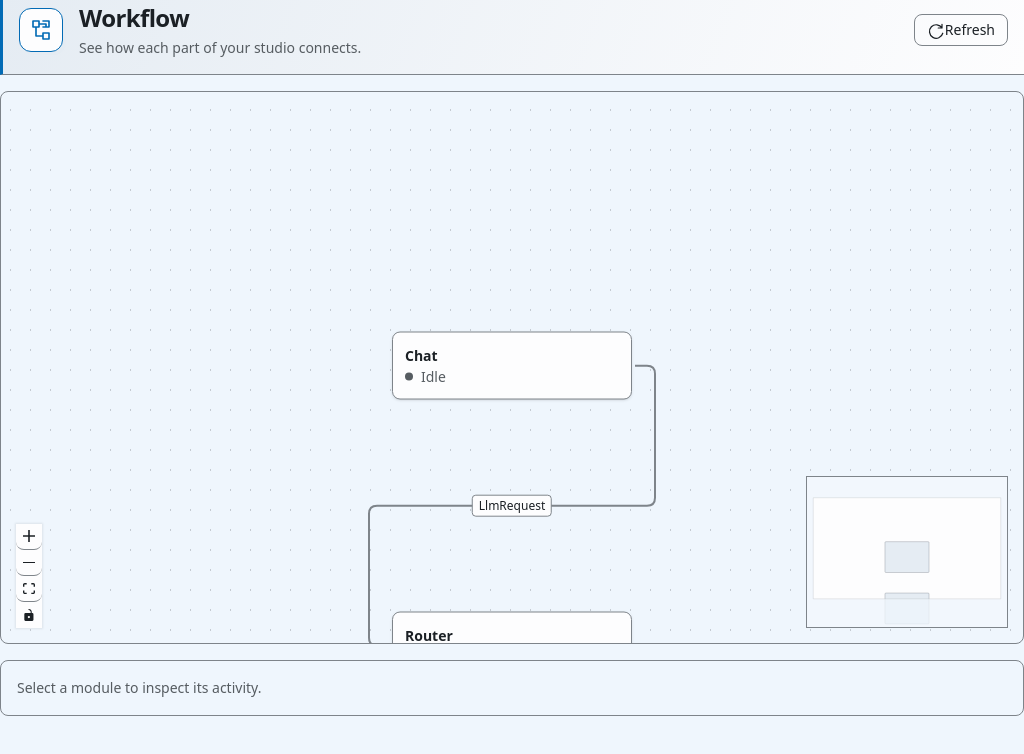
WorkflowPage › ignores a late graph response from the previous project after a project switch
Click the element named "Chat · Idle" at (512,366), box [392, 332, 632, 400]
(page scrolled)
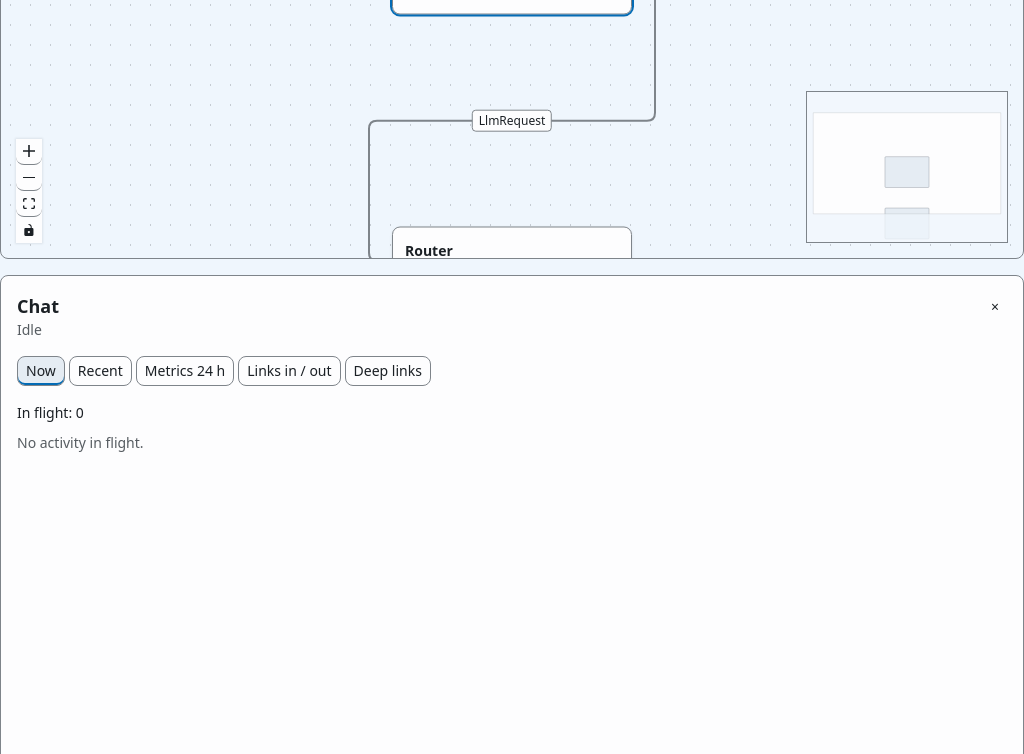
Click the tab "Metrics 24 h" at (185,371), box [136, 356, 234, 386]
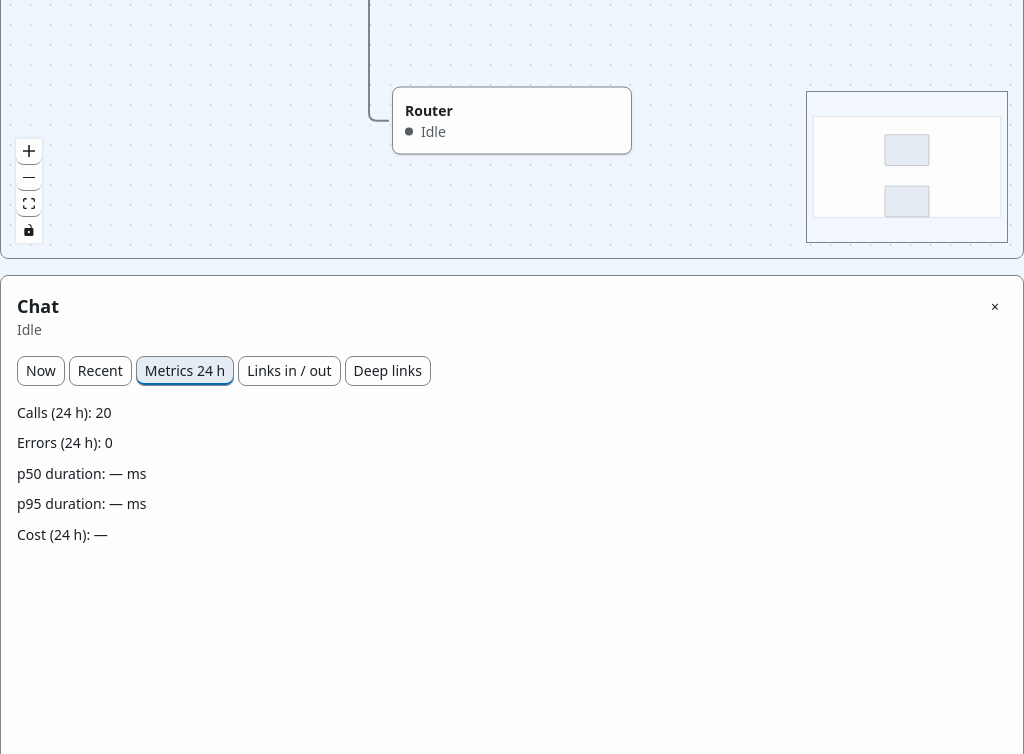
Result: the text "Calls (24 h): 20" is shown at [17, 403, 111, 422]
